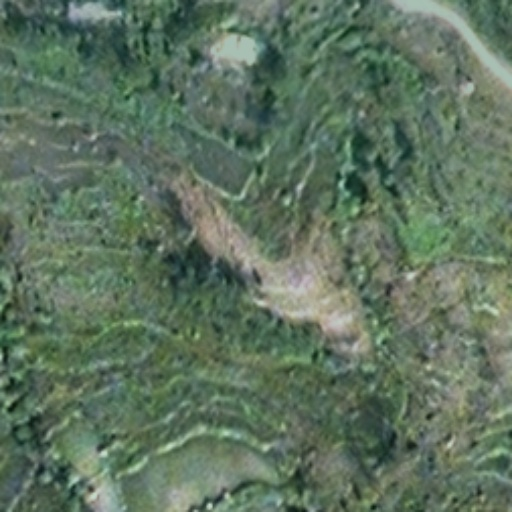landslide: (172, 170, 365, 352)
